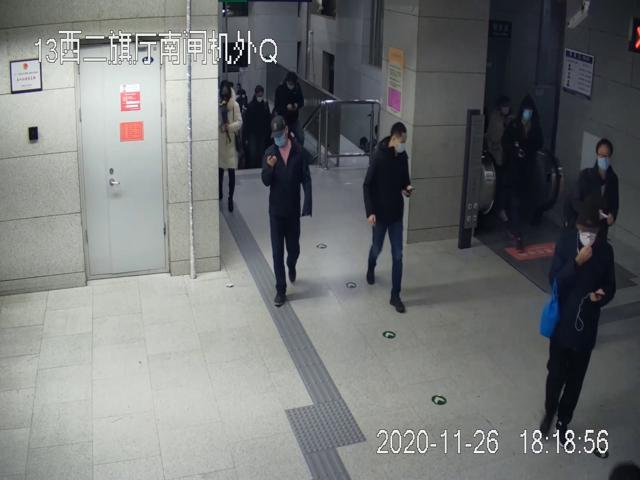person: (539, 198, 617, 443), (362, 123, 413, 314), (262, 115, 312, 305), (219, 78, 242, 210)
